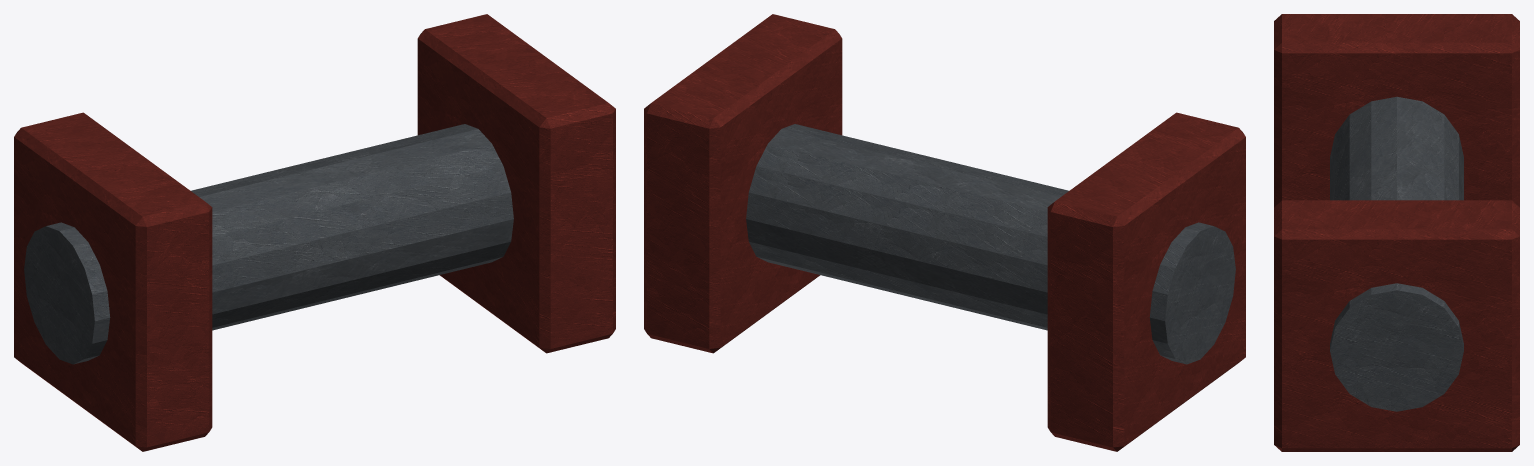
Rendered from train_axle.gltf.
The picture shows the model from 3 angles, left to right: view 1: azimuth 30°, elevation 25°; view 2: azimuth 150°, elevation 25°; view 3: azimuth 270°, elevation 25°; orthographic projection. The views are drawn at different scales.
Bounding box in the file's own units: 1 × 0.44 × 0.44.
2 materials, 2 textured.
